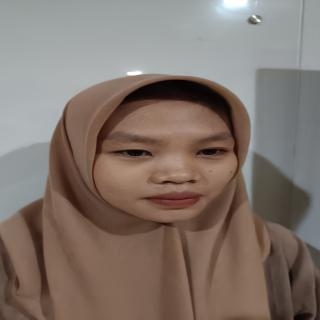Netral: (87, 84, 250, 233)
